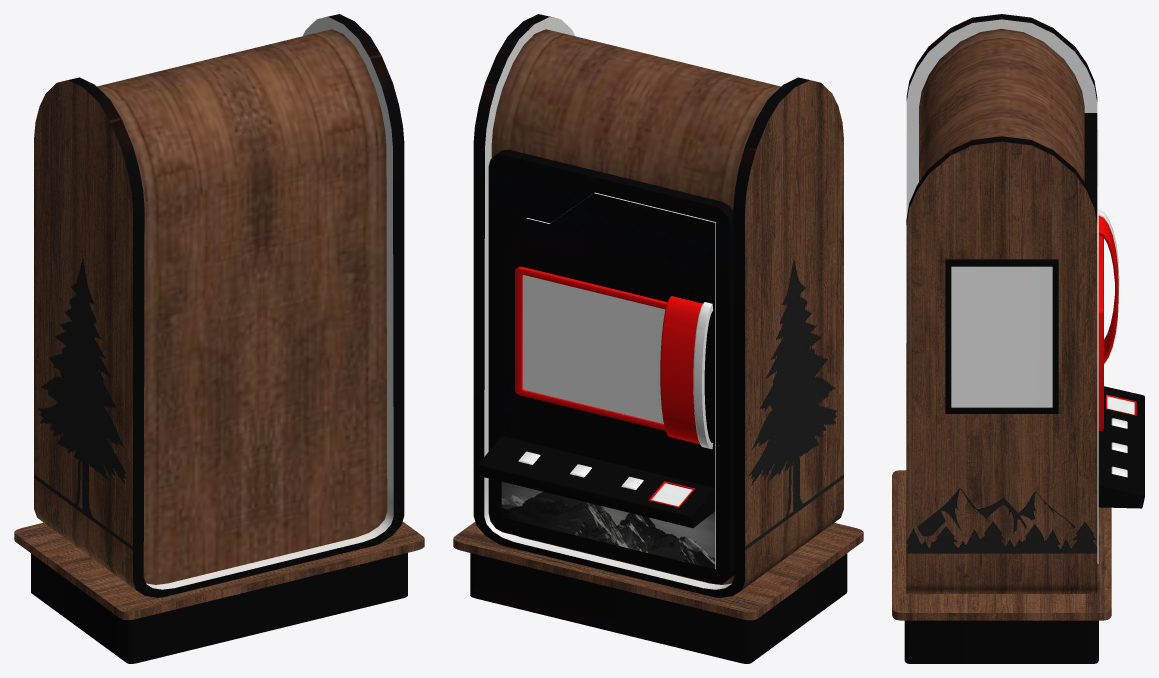
The model's file is ubs_int_minting_station.gltf.
3 views of the same model, side by side, from view 1: azimuth 30°, elevation 25°; view 2: azimuth 150°, elevation 25°; view 3: azimuth 270°, elevation 25° (orthographic). The views are drawn at different scales.
Visible parts, largest first — view 1: Minting_station; view 2: Minting_station; view 3: Minting_station.
Boxes of the visible parts, x1,y1,x2,y2 form: Minting_station: [14, 14, 424, 663]; Minting_station: [453, 14, 863, 663]; Minting_station: [892, 14, 1144, 663].
Size of what is drawn, in the model's own units: 1.78 by 3.02 by 1.33.
1 material, 1 textured.
